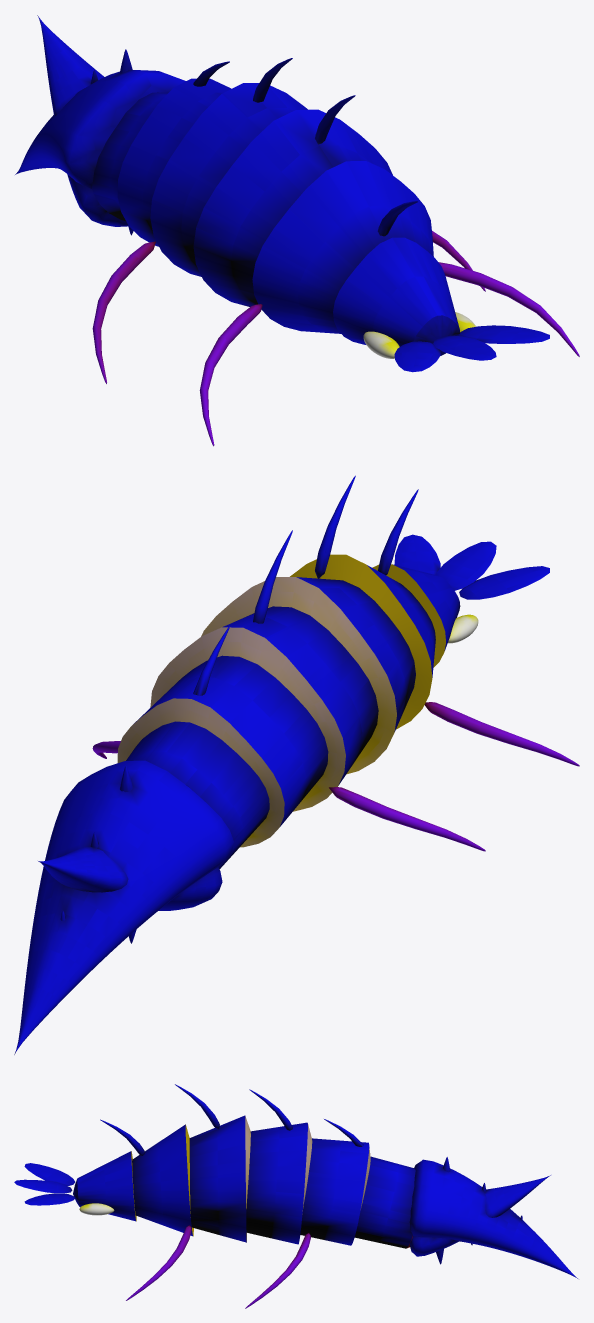
Rendered from craigon_scuttler_interceptor.fbx.
The picture shows the model from 3 angles, top to bottom: view 1: azimuth 30°, elevation 25°; view 2: azimuth 150°, elevation 25°; view 3: azimuth 270°, elevation 25°; orthographic projection. The views are drawn at different scales.
Visible parts, largest first — view 1: craigon_scuttler_interceptor; view 2: craigon_scuttler_interceptor; view 3: craigon_scuttler_interceptor.
Boxes of the visible parts, x1,y1,x2,y2 form: craigon_scuttler_interceptor: (15,15,579,446); craigon_scuttler_interceptor: (14,475,579,1054); craigon_scuttler_interceptor: (14,1084,577,1308).
Bounding box in the file's own units: 0.6283 × 0.5223 × 1.37.
